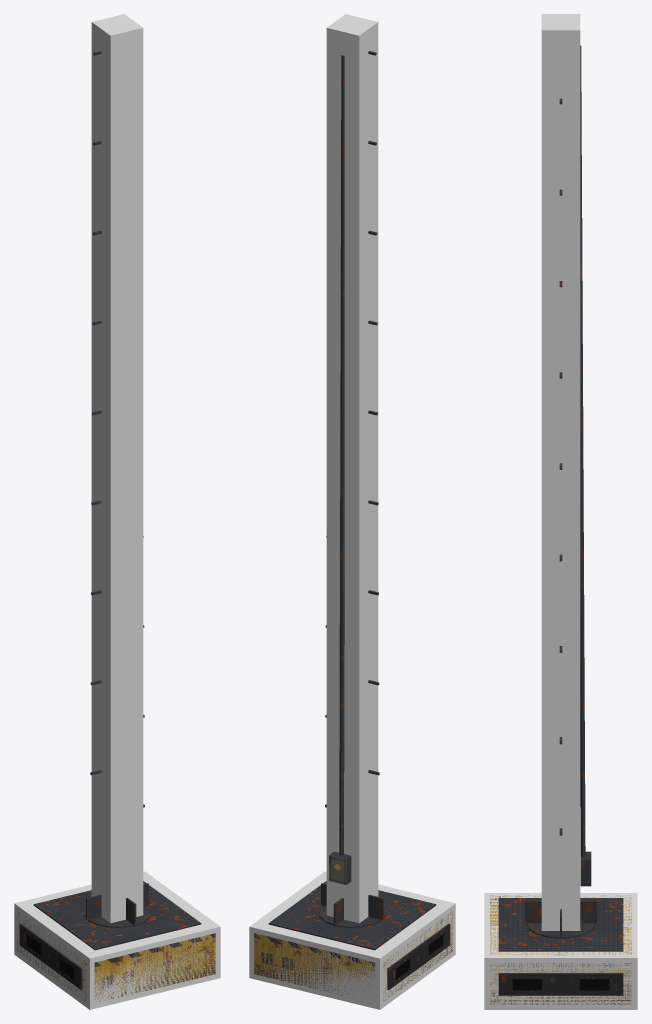
File: Kit_Lot_FloodMast_01.glb
3 views of the same model, side by side, from view 1: azimuth 30°, elevation 25°; view 2: azimuth 150°, elevation 25°; view 3: azimuth 270°, elevation 25° (orthographic).
Parts seen in each view (by area): view 1: COL_Kit_Lot_FloodMast_01_1, Kit_Lot_FloodMast_01_LOD0, COL_Kit_Lot_FloodMast_01_0; view 2: COL_Kit_Lot_FloodMast_01_1, Kit_Lot_FloodMast_01_LOD0, COL_Kit_Lot_FloodMast_01_0; view 3: COL_Kit_Lot_FloodMast_01_1, Kit_Lot_FloodMast_01_LOD0, COL_Kit_Lot_FloodMast_01_0.
Part boxes in pixels (<box>): COL_Kit_Lot_FloodMast_01_1: <box>91,14,143,923</box>; Kit_Lot_FloodMast_01_LOD0: <box>17,51,215,1001</box>; COL_Kit_Lot_FloodMast_01_0: <box>14,871,220,1009</box>; COL_Kit_Lot_FloodMast_01_1: <box>326,14,378,923</box>; Kit_Lot_FloodMast_01_LOD0: <box>254,51,452,1000</box>; COL_Kit_Lot_FloodMast_01_0: <box>249,871,455,1009</box>; COL_Kit_Lot_FloodMast_01_1: <box>541,14,580,930</box>; Kit_Lot_FloodMast_01_LOD0: <box>490,45,631,1004</box>; COL_Kit_Lot_FloodMast_01_0: <box>484,893,637,1009</box>.
Size of what is drawn, in the model's own units: 3.28 by 22 by 3.2.
1 material, 1 textured.
